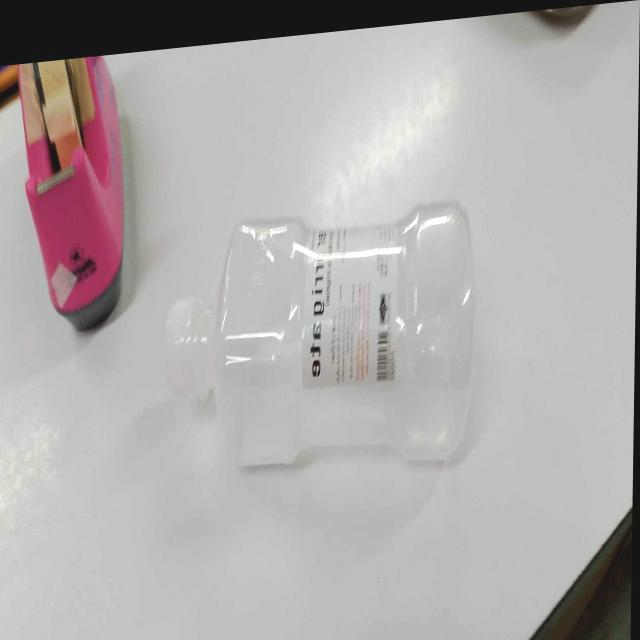Infectious: (212, 201, 478, 470)
Sharps: (17, 55, 127, 331)
